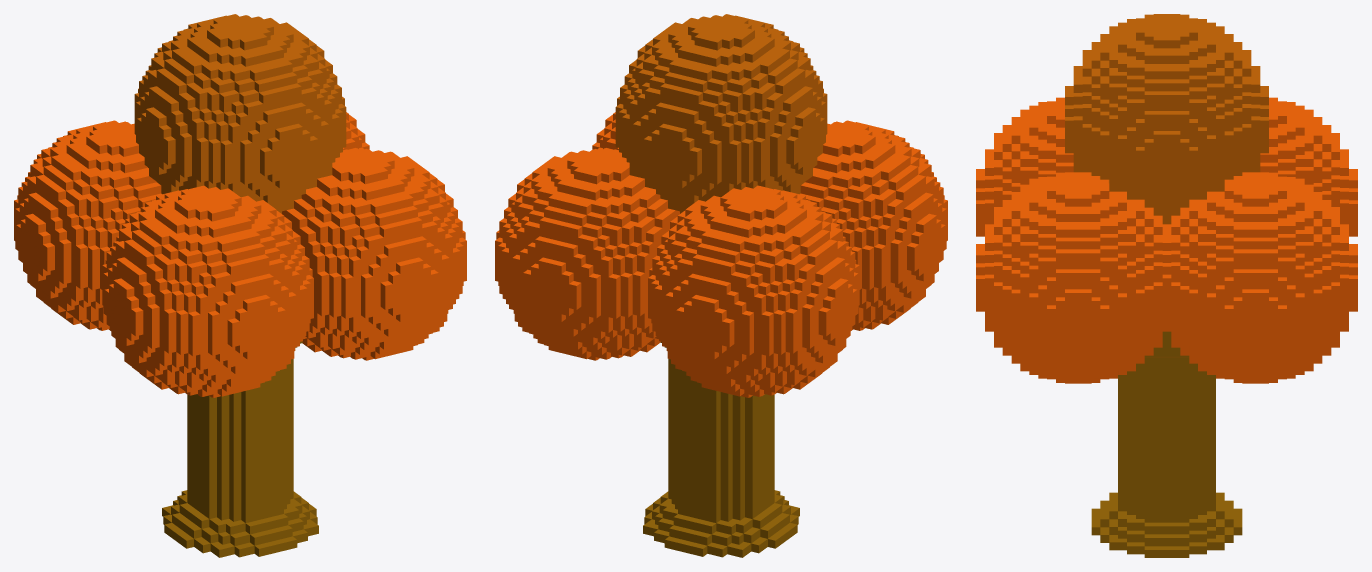
File: Autumn Tree01-1.fbx
3 renders of one model, left to right at view 1: azimuth 30°, elevation 25°; view 2: azimuth 150°, elevation 25°; view 3: azimuth 270°, elevation 25°, orthographic.
Visible parts, largest first — view 1: Tree01-3, Tree01-2, Tree01-Stem, Tree01-Root; view 2: Tree01-3, Tree01-2, Tree01-Stem, Tree01-Root; view 3: Tree01-3, Tree01-2, Tree01-Stem, Tree01-Root.
Boxes of the visible parts, box(x1,y1,x2,y2) form: Tree01-3: box(14, 112, 466, 397); Tree01-2: box(134, 14, 346, 191); Tree01-Stem: box(187, 359, 293, 522); Tree01-Root: box(162, 490, 318, 557); Tree01-3: box(495, 112, 947, 397); Tree01-2: box(615, 14, 827, 191); Tree01-Stem: box(668, 359, 774, 522); Tree01-Root: box(643, 490, 799, 557); Tree01-3: box(976, 97, 1357, 383); Tree01-2: box(1065, 14, 1268, 190); Tree01-Stem: box(1118, 357, 1215, 522); Tree01-Root: box(1091, 492, 1242, 557).
Bounding box in the file's own units: 430 × 620 × 430.
